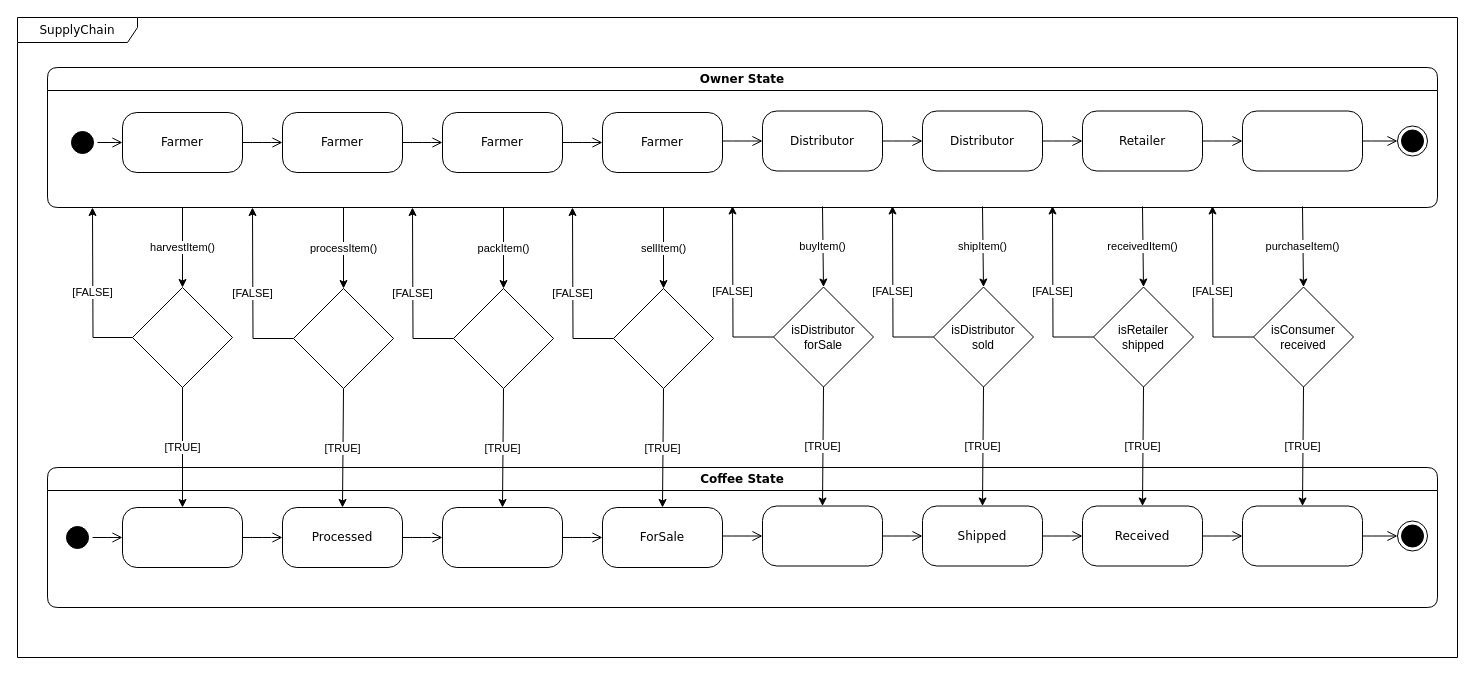
Image size: 1475x675. Some labels were removed from this diagram. Here are the shapes that lost their labels. From the top down, the centre of each, then its label:
At (1302,140): "Consumer".
At (182,337): "isFarmer".
At (343,338): "isFarmer harvested".
At (503,338): "isFarmer processed".
At (663,338): "isFarmer packed".
At (182,537): "Harvested".
At (502,537): "Packed".
At (822,535): "Sold".
At (1302,535): "Purchased".
